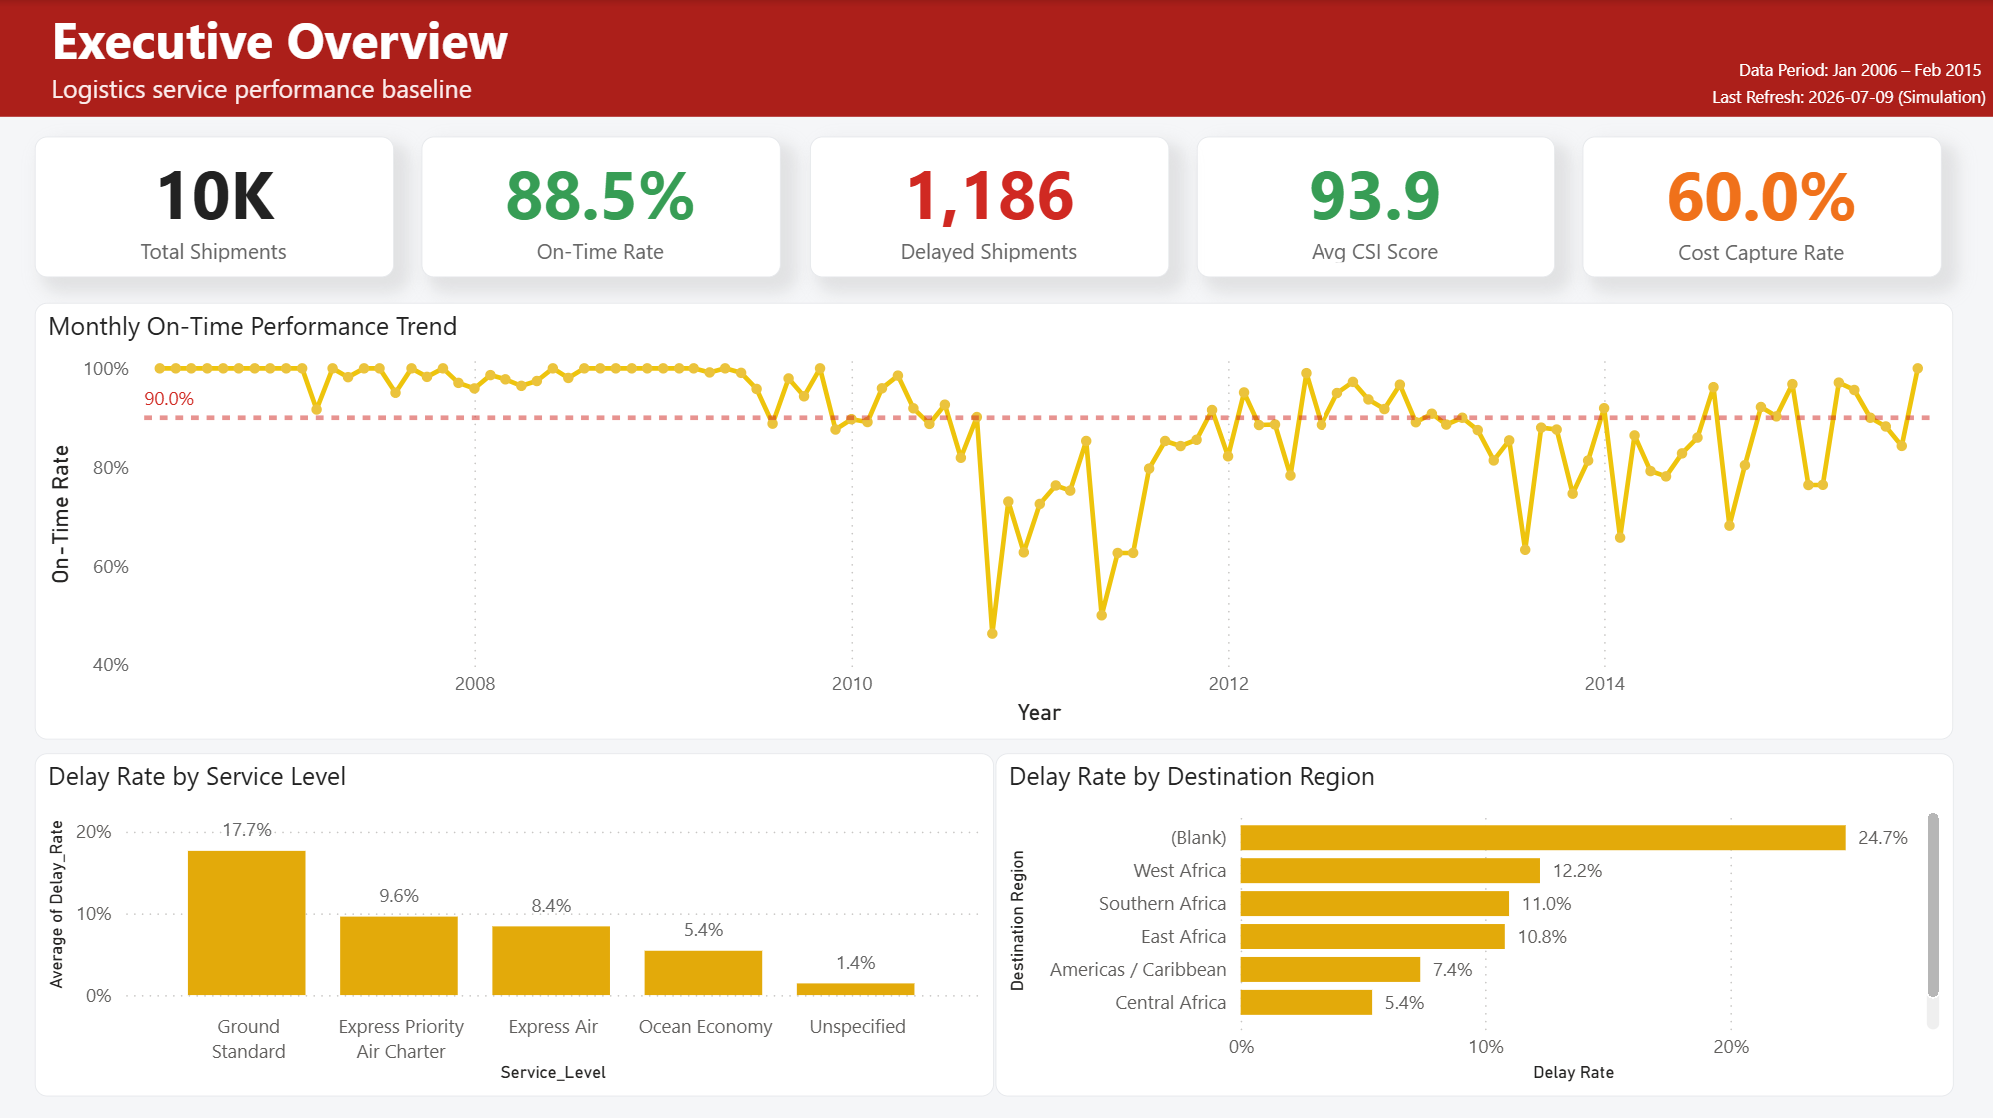

The dashboard page shown, as its layout file describes it:
{"tool":"powerbi","page":{"name":"Executive Overview","canvas":[1280,720],"ordinal":0},"visuals":[{"type":"card","fields":{"Values":["_Measures.Total Shipments"]},"box":[24,88,230,90],"z":0},{"type":"card","fields":{"Values":["_Measures.Avg CSI Score"]},"box":[768,88,230,90],"z":1000},{"type":"card","fields":{"Values":["_Measures.On-Time Rate"]},"box":[272,88,230,90],"z":2000},{"type":"card","fields":{"Values":["_Measures.Delayed Shipments"]},"box":[520,88,230,90],"z":3000},{"type":"card","fields":{"Values":["_Measures.Cost Capture Rate"]},"box":[1016,87.9,230,90.4],"z":4000},{"type":"lineChart","title":"Monthly On-Time Performance Trend","fields":{"Y":["_Measures.On-Time Rate"],"Category":["qry_01_overall_shipment_performance.Month_Date.Variation.Date Hierarchy.Year","qry_01_overall_shipment_performance.Month_Date.Variation.Date Hierarchy.Quarter","qry_01_overall_shipment_performance.Month_Date.Variation.Date Hierarchy.Month","qry_01_overall_shipment_performance.Month_Date.Variation.Date Hierarchy.Day"]},"box":[24,194,1230,280],"z":5000},{"type":"clusteredColumnChart","title":"Delay Rate by Service Level","fields":{"Category":["qry_02_delay_exposure_by_service_region.Service_Level"],"Y":["Avg(qry_02_delay_exposure_by_service_region.Delay_Rate)"]},"box":[24,484,615,220],"z":6000},{"type":"clusteredBarChart","title":"Delay Rate by Destination Region","fields":{"Category":["qry_02_delay_exposure_by_service_region.Destination_Region"],"Y":["Avg(qry_02_delay_exposure_by_service_region.Delay_Rate)"]},"box":[639,484,615,220],"z":7000},{"type":"shape","title":"Executive Overview","box":[0,0,1280.3,75],"z":8000},{"type":"textbox","title":"Executive Overview","box":[29.6,3.9,1221.9,65.6],"z":9000},{"type":"textbox","box":[979.2,29.2,300.6,46],"z":10000}]}

Visuals, with their boxes in screenshot pixels (x1, y1, x2, y2), scaled from the page's 1280x720 canvas onto the 1993x1118 screenshot:
card - _Measures.Total Shipments: bbox=(37, 137, 395, 276)
card - _Measures.Avg CSI Score: bbox=(1196, 137, 1554, 276)
card - _Measures.On-Time Rate: bbox=(424, 137, 782, 276)
card - _Measures.Delayed Shipments: bbox=(810, 137, 1168, 276)
card - _Measures.Cost Capture Rate: bbox=(1582, 136, 1940, 277)
"Monthly On-Time Performance Trend" lineChart: bbox=(37, 301, 1953, 736)
"Delay Rate by Service Level" clusteredColumnChart: bbox=(37, 752, 995, 1093)
"Delay Rate by Destination Region" clusteredBarChart: bbox=(995, 752, 1953, 1093)
"Executive Overview" shape: bbox=(0, 0, 1992, 116)
"Executive Overview" textbox: bbox=(46, 6, 1949, 108)
textbox: bbox=(1525, 45, 1992, 117)
